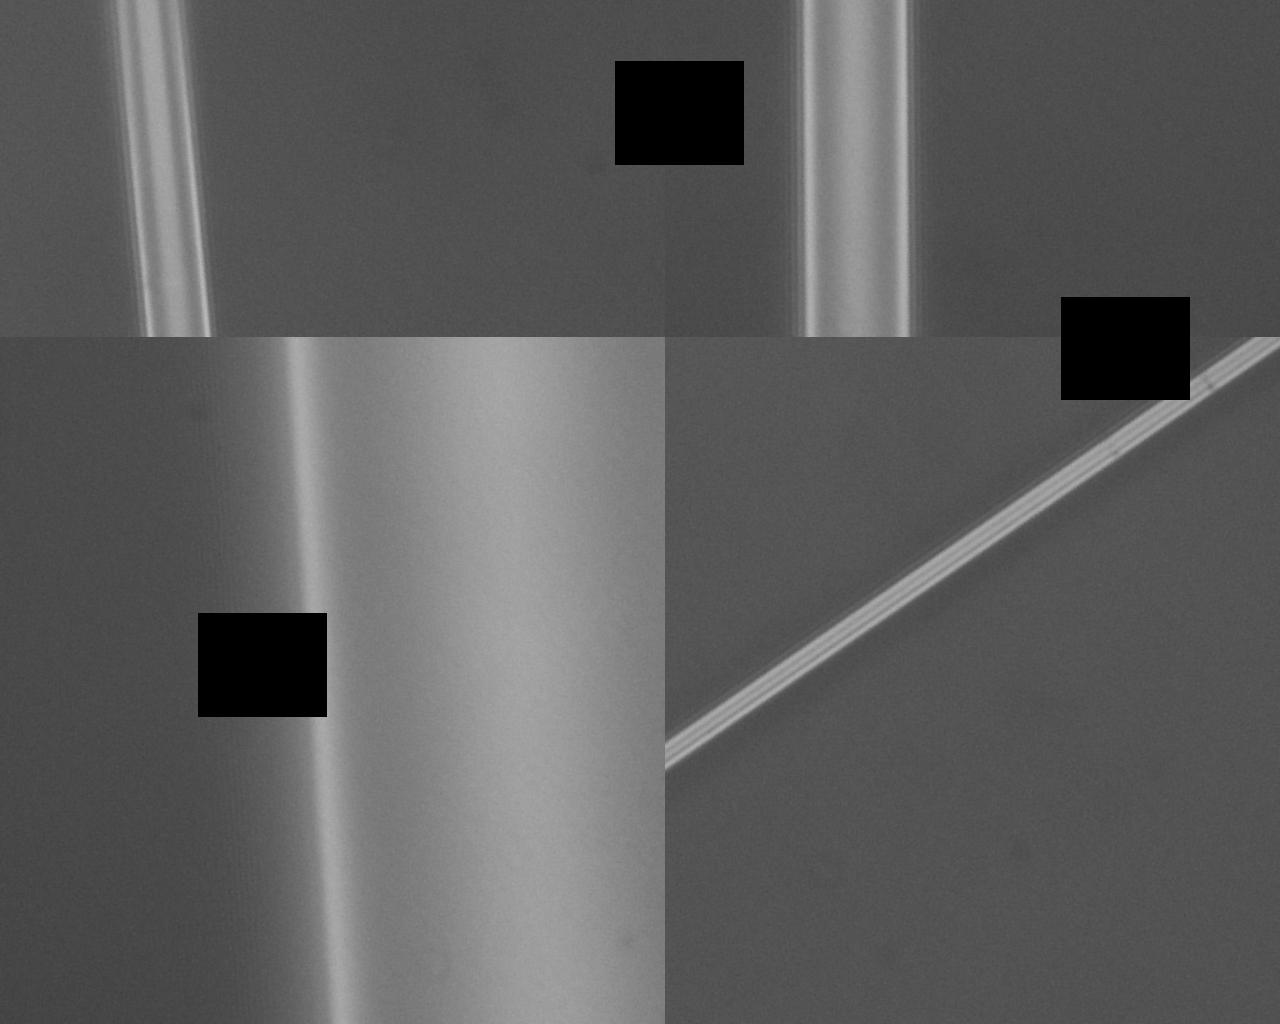fiber: (674, 0, 1280, 563), (0, 659, 550, 935), (550, 563, 742, 1024)
